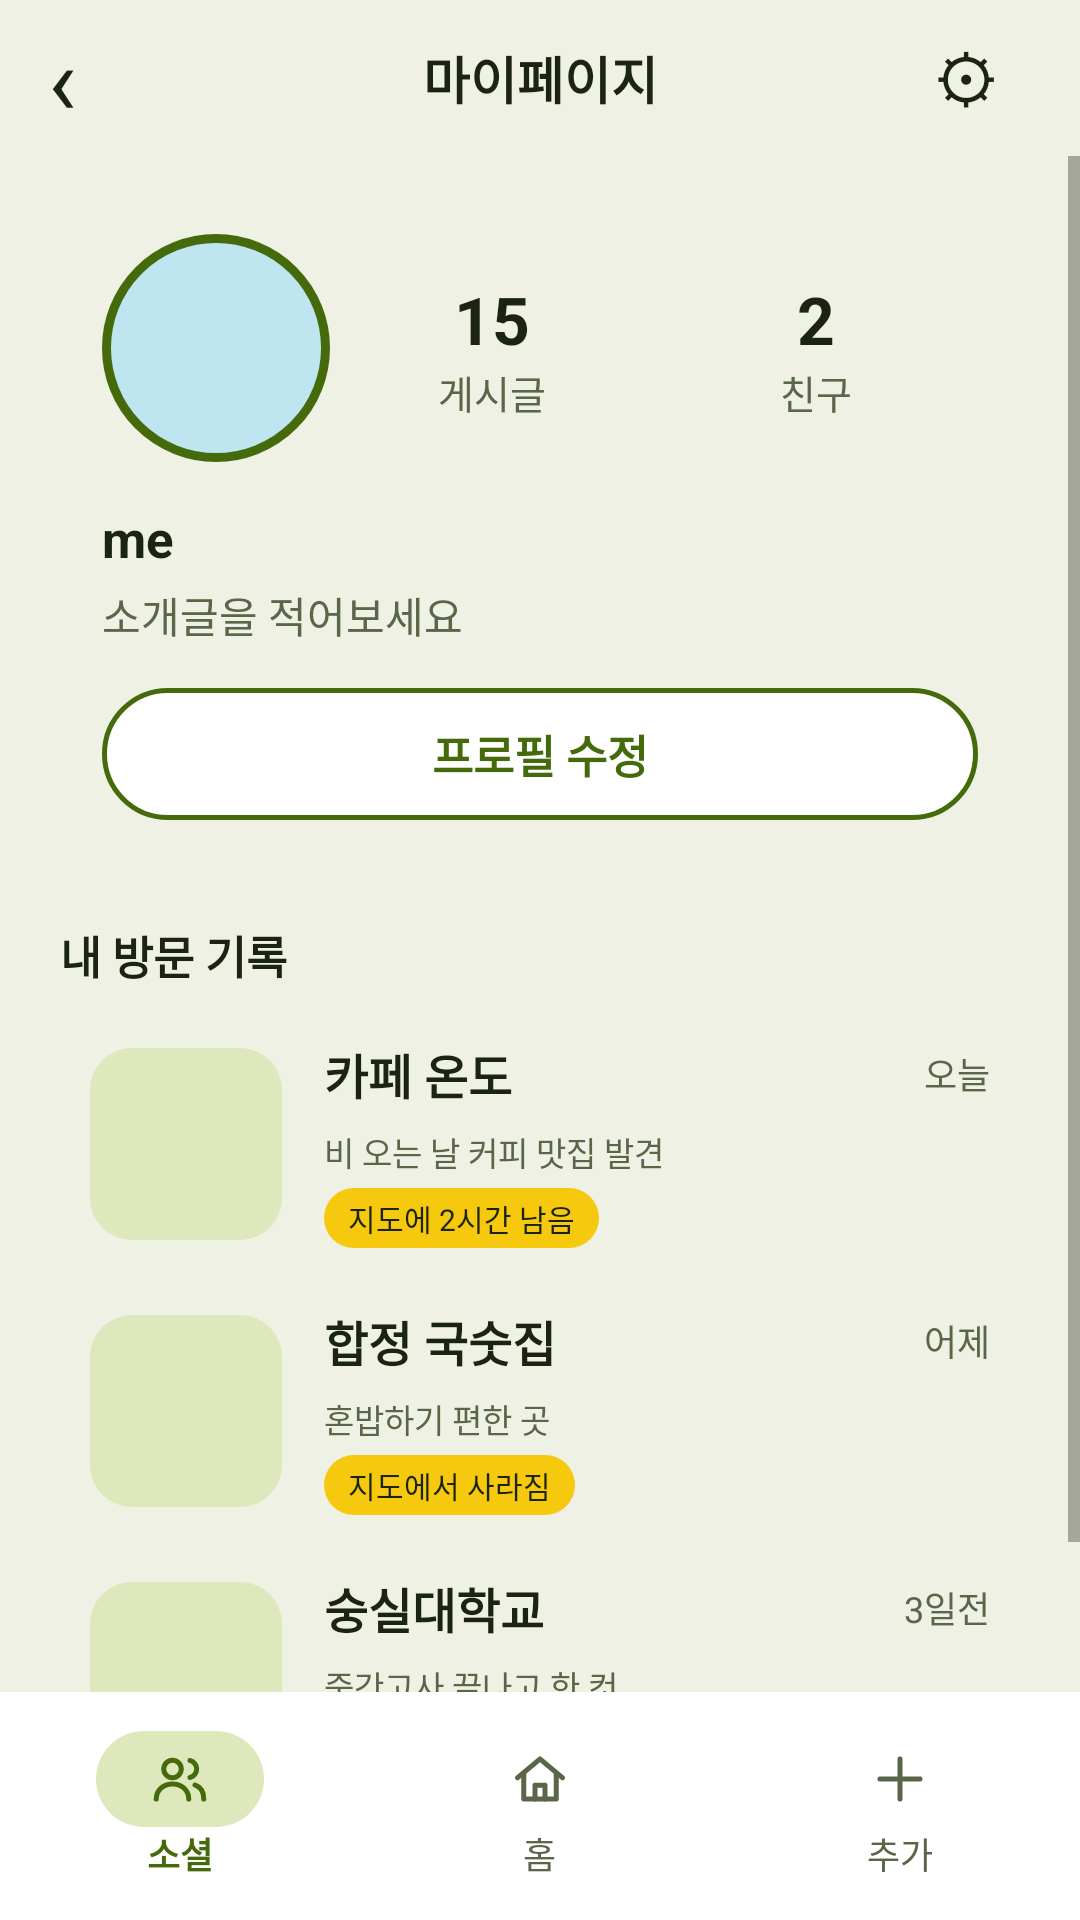

Named icons in this screenshot (1080 x 1920) and their centers, (x,y):
home: (540,1779)
